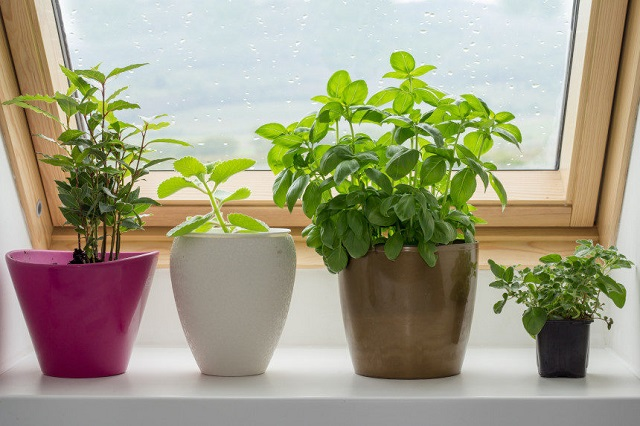plant: (325, 49, 498, 378), (8, 62, 157, 378), (155, 155, 298, 378), (497, 239, 625, 379)
